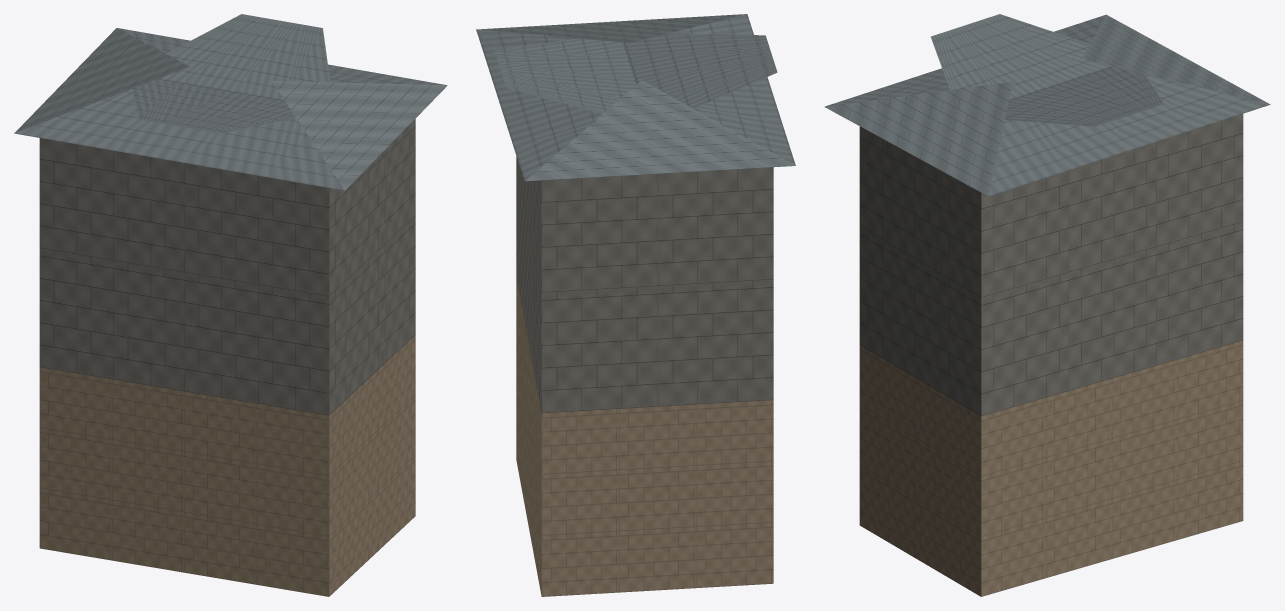
File: bld_c23_30_393.gltf
3 renders of one model, left to right at view 1: azimuth 30°, elevation 25°; view 2: azimuth 150°, elevation 25°; view 3: azimuth 270°, elevation 25°, orthographic.
Parts seen in each view (by area): view 1: bld_c23_30_393; view 2: bld_c23_30_393; view 3: bld_c23_30_393.
Boxes of the visible parts, box(x1,y1,x2,y2) form: bld_c23_30_393: box(14, 14, 447, 596); bld_c23_30_393: box(476, 14, 795, 596); bld_c23_30_393: box(824, 14, 1270, 596).
Size of the model in its own units: 11.03 by 12.8 by 11.44.
Materials: 3 (3 with a texture image).
